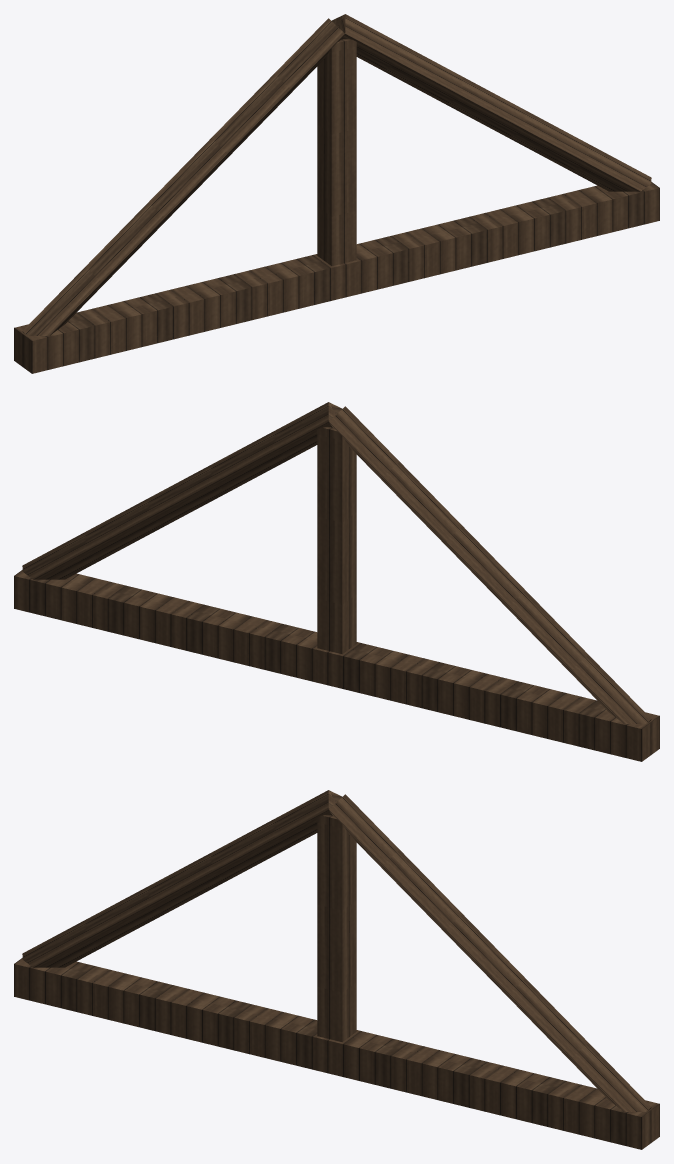
Rendered from Beam_Truss_1_LOD2.gltf.
The picture shows the model from 3 angles, top to bottom: view 1: azimuth 30°, elevation 25°; view 2: azimuth 150°, elevation 25°; view 3: azimuth 330°, elevation 25°; orthographic projection.
Visible parts, largest first — view 1: Beam_Truss_1_LOD2; view 2: Beam_Truss_1_LOD2; view 3: Beam_Truss_1_LOD2.
Part boxes in pixels (x1=…): Beam_Truss_1_LOD2: x1=14, y1=14, x2=659, y2=373; Beam_Truss_1_LOD2: x1=14, y1=402, x2=659, y2=761; Beam_Truss_1_LOD2: x1=14, y1=790, x2=659, y2=1149.
Size of the model in its own units: 8.01 by 3.34 by 0.4.
1 material, 1 textured.
